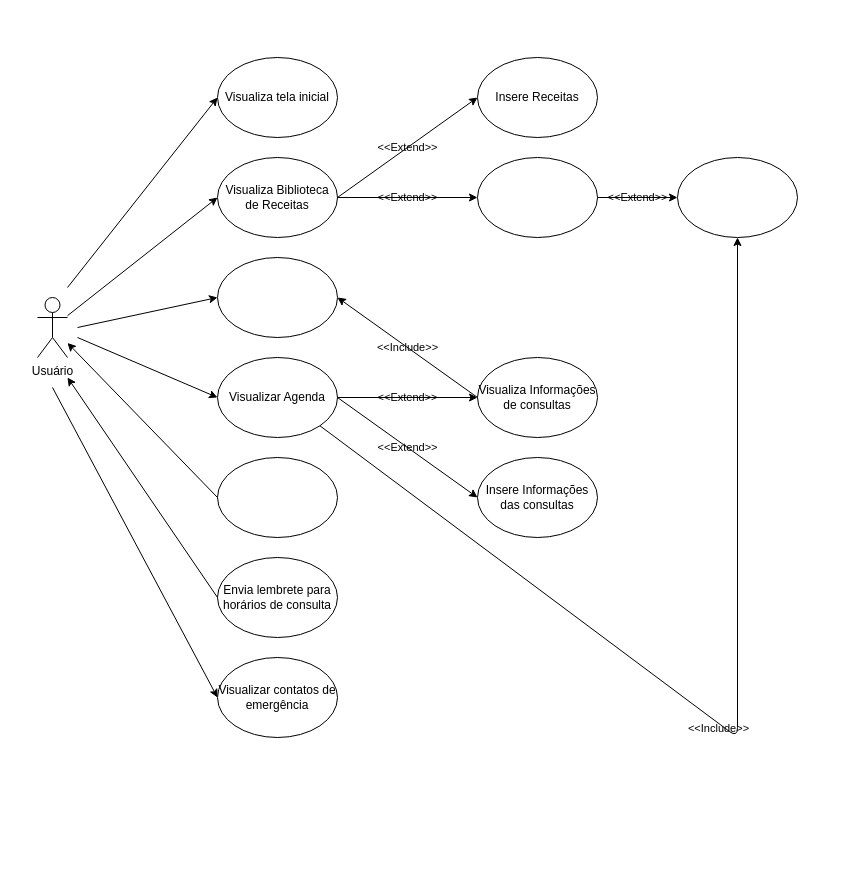
The diagram is 845 pixels wide and 875 high, and some of its shapes have lost their labels. Each missing label, with the box of its shape:
Envia Lembrete para Horarios de medicamentos: (216, 456, 338, 538)
Visualiza horários para tomar remédios: (676, 156, 798, 238)
Visualiza informações de receitas: (476, 156, 598, 238)
Visualiza Informações dos médicos: (216, 256, 338, 338)
